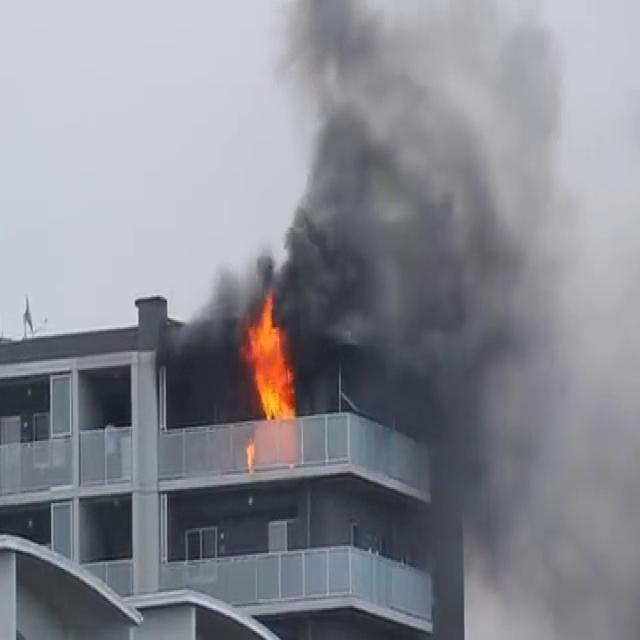Fire: (244, 289, 300, 426)
Smoke: (196, 0, 639, 402), (428, 0, 640, 562)
